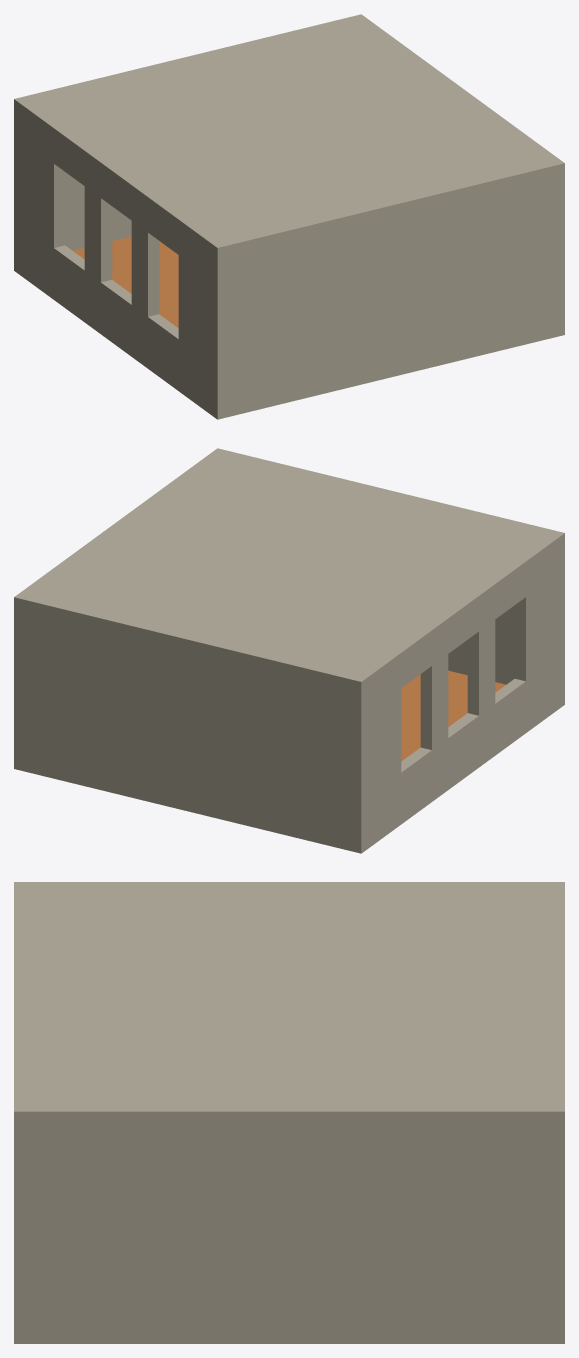
File: Classroom.fbx
The picture shows the model from 3 angles, top to bottom: view 1: azimuth 30°, elevation 25°; view 2: azimuth 150°, elevation 25°; view 3: azimuth 270°, elevation 25°; orthographic projection. The views are drawn at different scales.
Parts seen in each view (by area): view 1: Classroom; view 2: Classroom; view 3: Classroom.
Boxes of the visible parts, left/top/right/bottom form: Classroom: left=14, top=14, right=564, bottom=419; Classroom: left=14, top=448, right=564, bottom=853; Classroom: left=14, top=882, right=564, bottom=1343.
Bounding box in the file's own units: 1470 × 694 × 1492.
